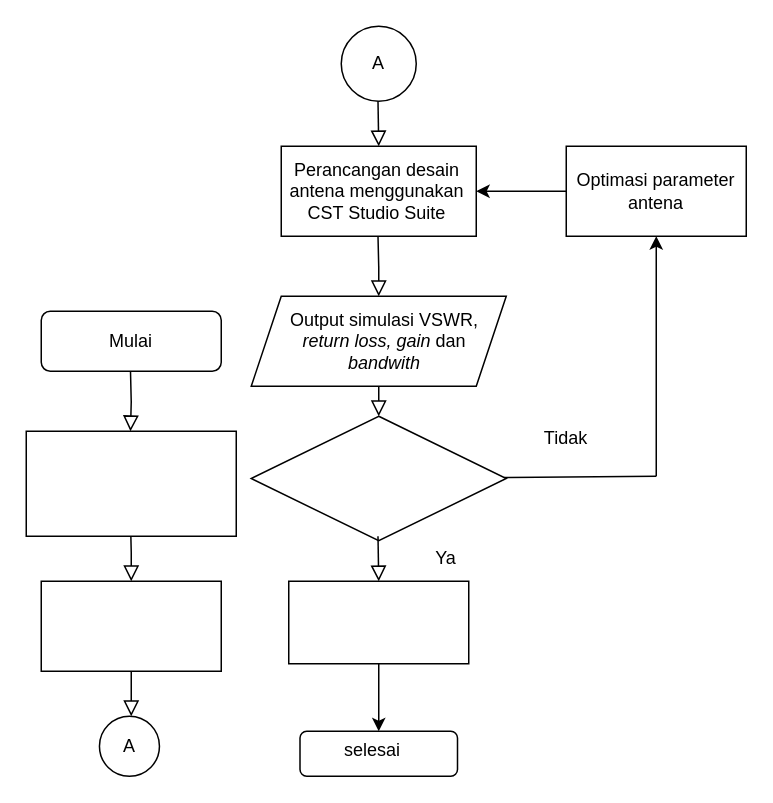
Image size: 773x803. Some labels were removed from this diagram. Here are the shapes that lost their labels. From the top down, the centre of each, then its label:
At point 130,483: "Menentukan sesifikasi antena yang diinginkan dan metode yang digunakan".
At point 378,478: "Apakah sudah mendapat parameter target ?".
At point 130,625: "Perhitungan awal dimensi antena".
At point 378,622: "Analisis hasil simulasi".
